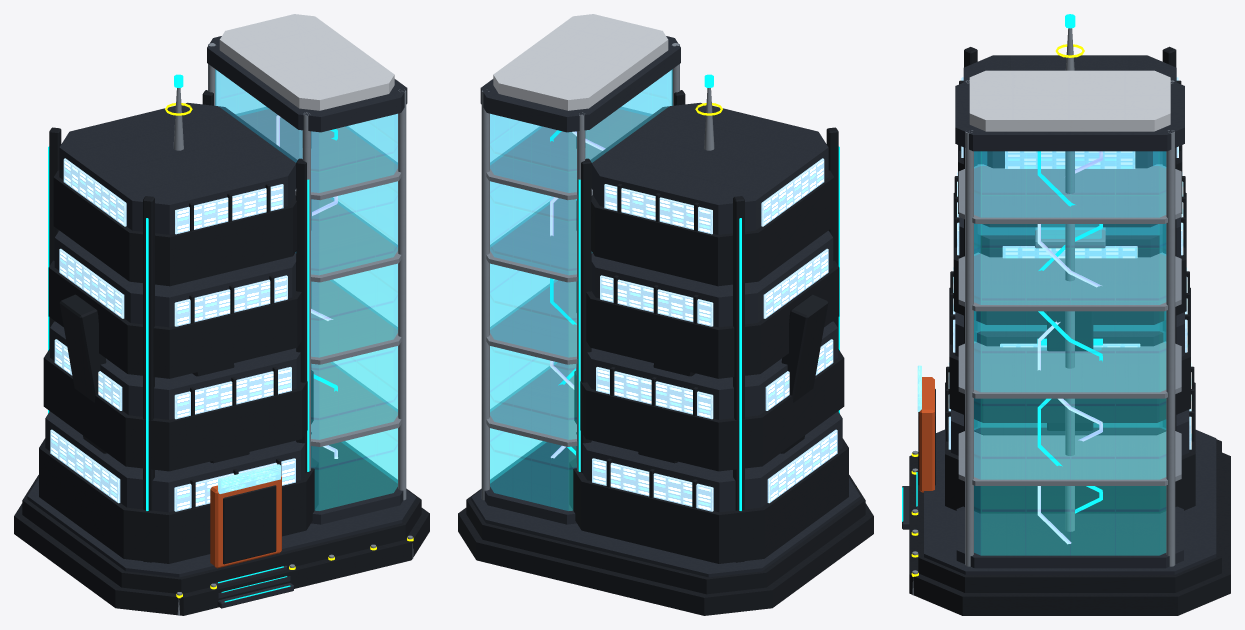
Rendered from bldg_10_winner_01_cryo_seed_vault.glb.
3 renders of one model, left to right at view 1: azimuth 30°, elevation 25°; view 2: azimuth 150°, elevation 25°; view 3: azimuth 270°, elevation 25°, orthographic. The views are drawn at different scales.
Parts seen in each view (by area): view 1: Bldg10_C02_gunmetal, Bldg10_C02_carbon_slate, Bldg10_C02_glass_cyan, Bldg10_C02_steel_machined, Bldg10_C02_window_lit, Bldg10_C02_aero_white, Bldg10_C02_led_cyan, Bldg10_C02_accent_orange, Bldg10_C02_marquee; view 2: Bldg10_C02_gunmetal, Bldg10_C02_carbon_slate, Bldg10_C02_glass_cyan, Bldg10_C02_steel_machined, Bldg10_C02_window_lit, Bldg10_C02_aero_white, Bldg10_C02_led_cyan; view 3: Bldg10_C02_glass_cyan, Bldg10_C02_steel_machined, Bldg10_C02_carbon_slate, Bldg10_C02_gunmetal, Bldg10_C02_aero_white, Bldg10_C02_window_lit, Bldg10_C02_led_cyan, Bldg10_C02_accent_orange, Bldg10_C02_led_uv.
Part boxes in pixels (bbox=[...]): Bldg10_C02_gunmetal: bbox=[14, 90, 429, 615]; Bldg10_C02_carbon_slate: bbox=[27, 36, 416, 608]; Bldg10_C02_glass_cyan: bbox=[215, 69, 397, 510]; Bldg10_C02_steel_machined: bbox=[173, 43, 413, 615]; Bldg10_C02_window_lit: bbox=[50, 158, 295, 511]; Bldg10_C02_aero_white: bbox=[219, 14, 394, 110]; Bldg10_C02_led_cyan: bbox=[48, 74, 337, 602]; Bldg10_C02_accent_orange: bbox=[210, 476, 281, 568]; Bldg10_C02_marquee: bbox=[218, 464, 280, 493]; Bldg10_C02_gunmetal: bbox=[458, 90, 873, 615]; Bldg10_C02_carbon_slate: bbox=[471, 36, 860, 577]; Bldg10_C02_glass_cyan: bbox=[490, 69, 672, 510]; Bldg10_C02_steel_machined: bbox=[481, 43, 714, 500]; Bldg10_C02_window_lit: bbox=[592, 158, 837, 511]; Bldg10_C02_aero_white: bbox=[493, 14, 668, 110]; Bldg10_C02_led_cyan: bbox=[550, 74, 839, 510]; Bldg10_C02_glass_cyan: bbox=[974, 151, 1166, 555]; Bldg10_C02_steel_machined: bbox=[912, 28, 1181, 595]; Bldg10_C02_carbon_slate: bbox=[902, 55, 1216, 574]; Bldg10_C02_gunmetal: bbox=[909, 46, 1230, 615]; Bldg10_C02_aero_white: bbox=[969, 70, 1170, 131]; Bldg10_C02_window_lit: bbox=[948, 77, 1191, 449]; Bldg10_C02_led_cyan: bbox=[902, 14, 1102, 521]; Bldg10_C02_accent_orange: bbox=[919, 377, 934, 492]; Bldg10_C02_led_uv: bbox=[1037, 151, 1102, 544].
Size of the model in its own units: 12 by 17.02 by 10.23.
Materials: 11 (11 with a texture image).
